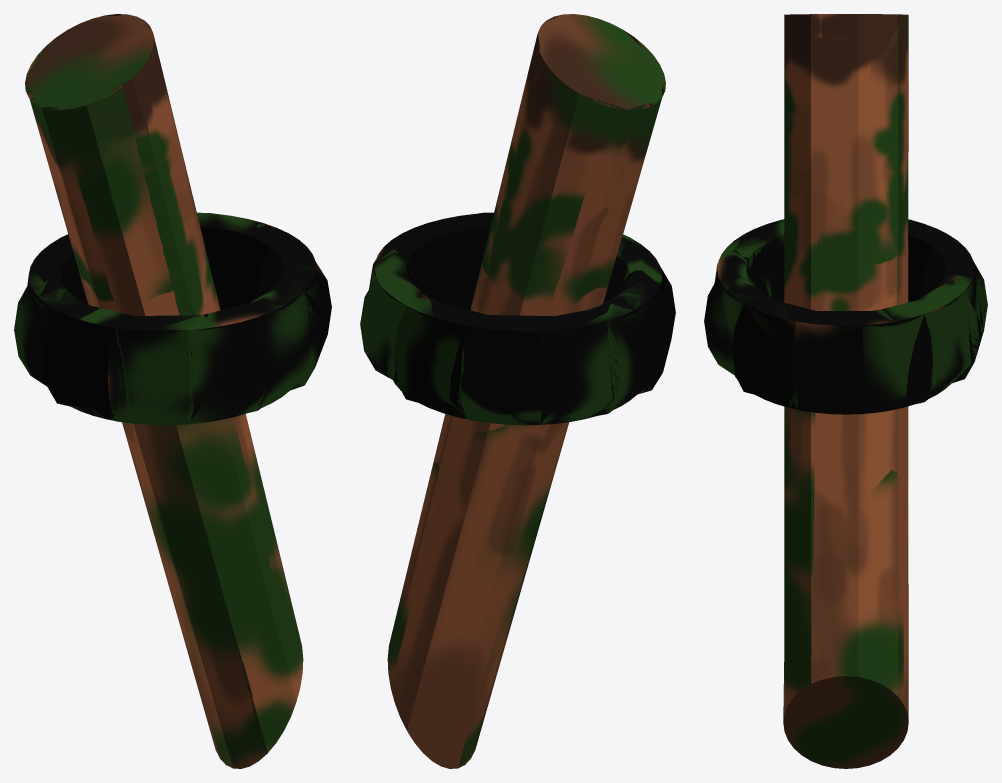
The model's file is tocha com detalhes verdes.fbx.
3 views of the same model, side by side, from view 1: azimuth 30°, elevation 25°; view 2: azimuth 150°, elevation 25°; view 3: azimuth 270°, elevation 25° (orthographic). The views are drawn at different scales.
Parts seen in each view (by area): view 1: Torus; view 2: Torus; view 3: Torus.
Part boxes in pixels (<box>): Torus: <box>14,14,331,768</box>; Torus: <box>360,14,675,768</box>; Torus: <box>704,14,987,768</box>.
Bounding box in the file's own units: 135 × 353 × 127.
1 material, 1 textured.
